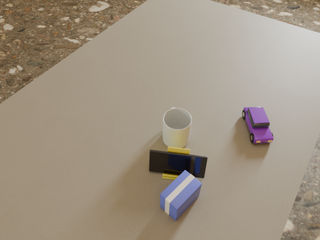box: (160, 170, 202, 221)
cup: (163, 108, 192, 148)
phone: (149, 150, 207, 178)
toy_car: (242, 107, 273, 143)
